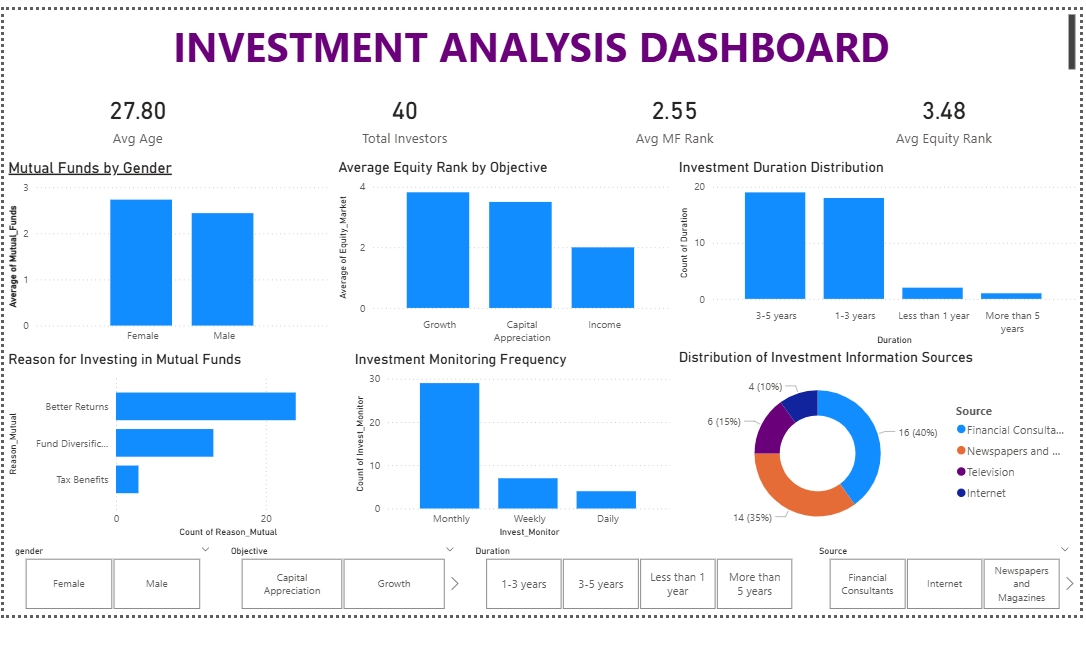

The page's visual inventory and layout, read from the dashboard file:
{"tool":"powerbi","page":{"name":"Final Dashboard","canvas":[1280,720],"ordinal":6},"visuals":[{"type":"textbox","box":[0,0,1280,78],"z":0},{"type":"card","fields":{"Values":["Data_set 2 (1).Avg Age"]},"box":[0,78,318,98],"z":1000},{"type":"card","fields":{"Values":["Data_set 2 (1).Total Investors"]},"box":[318,78,318,98],"z":2000},{"type":"card","fields":{"Values":["Data_set 2 (1).Avg MF Rank"]},"box":[639.3,78.6,317.9,98.2],"z":3000},{"type":"card","fields":{"Values":["Data_set 2 (1).Avg Equity Rank"]},"box":[957.1,78.6,323.2,98.2],"z":4000},{"type":"clusteredColumnChart","title":"Mutual Funds by Gender","fields":{"Category":["Data_set 2 (1).gender"],"Y":["Avg(Data_set 2 (1).Mutual_Funds)"]},"box":[0,176.8,392.9,228.6],"z":5000},{"type":"clusteredColumnChart","title":"Investment Duration Distribution","fields":{"Category":["Data_set 2 (1).Duration"],"Y":["CountNonNull(Data_set 2 (1).Duration)"]},"box":[798.2,176.8,482.1,226.8],"z":7000},{"type":"slicer","title":"Investment Monitoring Frequency","fields":{"Values":["Data_set 2 (1).gender"]},"box":[0,632.1,257.1,87.5],"z":8000},{"type":"clusteredBarChart","title":"Reason for Investing in Mutual Funds","fields":{"Category":["Data_set 2 (1).Reason_Mutual"],"Y":["CountNonNull(Data_set 2 (1).Reason_Mutual)"]},"box":[0,405.4,412.5,226.8],"z":9000},{"type":"clusteredColumnChart","title":"Average Equity Rank by Objective","fields":{"Category":["Data_set 2 (1).Objective"],"Y":["Avg(Data_set 2 (1).Equity_Market)"]},"box":[392.9,176.8,405.4,228.6],"z":10002},{"type":"clusteredColumnChart","title":"Investment Monitoring Frequency","fields":{"Category":["Data_set 2 (1).Invest_Monitor"],"Y":["CountNonNull(Data_set 2 (1).Invest_Monitor)"]},"box":[412.5,405.4,385.7,226.8],"z":10003},{"type":"donutChart","title":"Distribution of Investment Information Sources","fields":{"Category":["Data_set 2 (1).Source"],"Y":["CountNonNull(Data_set 2 (1).Source)"]},"box":[798.2,403.6,482.1,228.6],"z":10004},{"type":"slicer","title":"Investment Monitoring Frequency","fields":{"Values":["Data_set 2 (1).Objective"]},"box":[257.1,632.1,291.1,87.5],"z":10005},{"type":"slicer","title":"Investment Monitoring Frequency","fields":{"Values":["Data_set 2 (1).Duration"]},"box":[548.2,632.1,414.3,87.5],"z":10006},{"type":"slicer","title":"Investment Monitoring Frequency","fields":{"Values":["Data_set 2 (1).Source"]},"box":[957.1,632.1,323.2,87.5],"z":10007}]}

Visuals, with their boxes on the page's 1280x720 design canvas (x1, y1, x2, y2). These are canvas units, not pixel positions in the 1086x646 screenshot, which may show the page scaled, cropped or inside an application window:
textbox: BBox(0, 0, 1280, 78)
card - Data_set 2 (1).Avg Age: BBox(0, 78, 318, 176)
card - Data_set 2 (1).Total Investors: BBox(318, 78, 636, 176)
card - Data_set 2 (1).Avg MF Rank: BBox(639, 79, 957, 177)
card - Data_set 2 (1).Avg Equity Rank: BBox(957, 79, 1280, 177)
"Mutual Funds by Gender" clusteredColumnChart: BBox(0, 177, 393, 405)
"Investment Duration Distribution" clusteredColumnChart: BBox(798, 177, 1280, 404)
"Investment Monitoring Frequency" slicer: BBox(0, 632, 257, 720)
"Reason for Investing in Mutual Funds" clusteredBarChart: BBox(0, 405, 412, 632)
"Average Equity Rank by Objective" clusteredColumnChart: BBox(393, 177, 798, 405)
"Investment Monitoring Frequency" clusteredColumnChart: BBox(412, 405, 798, 632)
"Distribution of Investment Information Sources" donutChart: BBox(798, 404, 1280, 632)
"Investment Monitoring Frequency" slicer: BBox(257, 632, 548, 720)
"Investment Monitoring Frequency" slicer: BBox(548, 632, 962, 720)
"Investment Monitoring Frequency" slicer: BBox(957, 632, 1280, 720)
